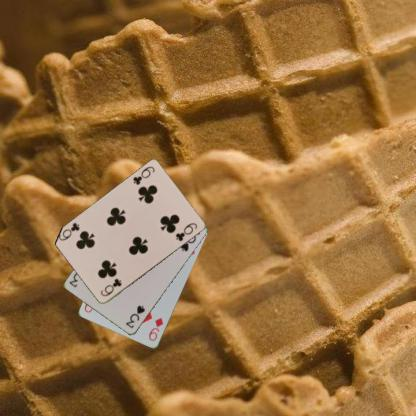3s: (123, 303, 146, 330)
6c: (131, 164, 156, 187), (98, 276, 123, 298)
9d: (146, 315, 165, 343)
